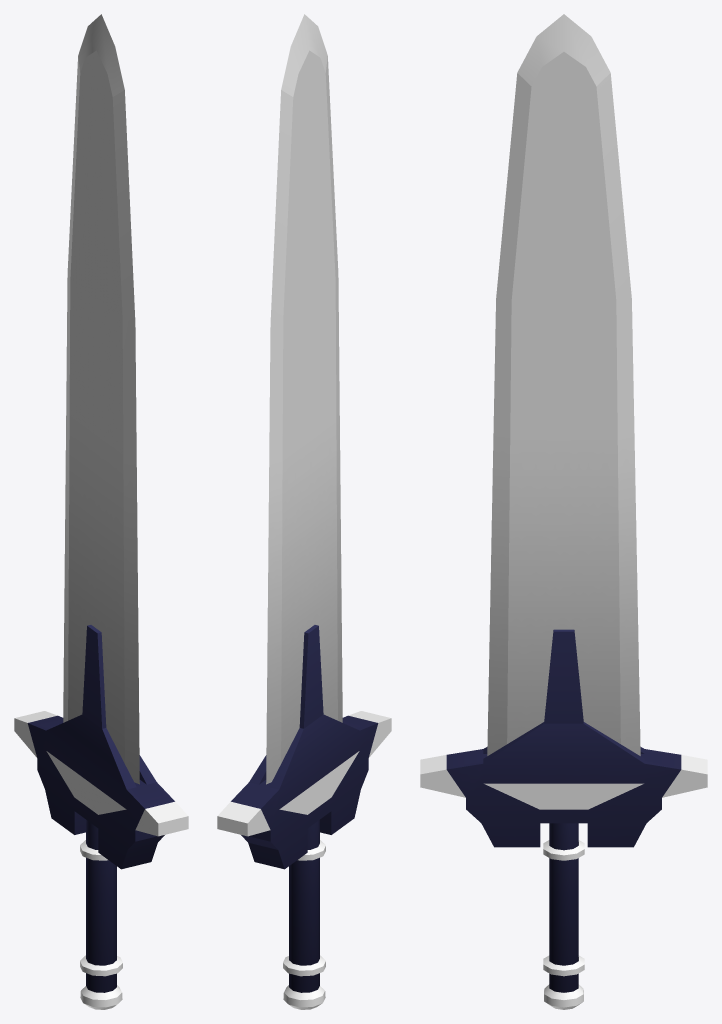
Rendered from Weapon_skyward_sword.fbx.
3 views of the same model, side by side, from view 1: azimuth 30°, elevation 25°; view 2: azimuth 150°, elevation 25°; view 3: azimuth 270°, elevation 25° (orthographic).
Visible parts, largest first — view 1: W_LB_2; view 2: W_LB_2; view 3: W_LB_2.
Part boxes in pixels (x1,y1,x2,y2): W_LB_2: (14,14,188,1009); W_LB_2: (217,14,391,1009); W_LB_2: (420,14,707,1009).
Size of the model in its own units: 3.98 by 99.93 by 26.32.
